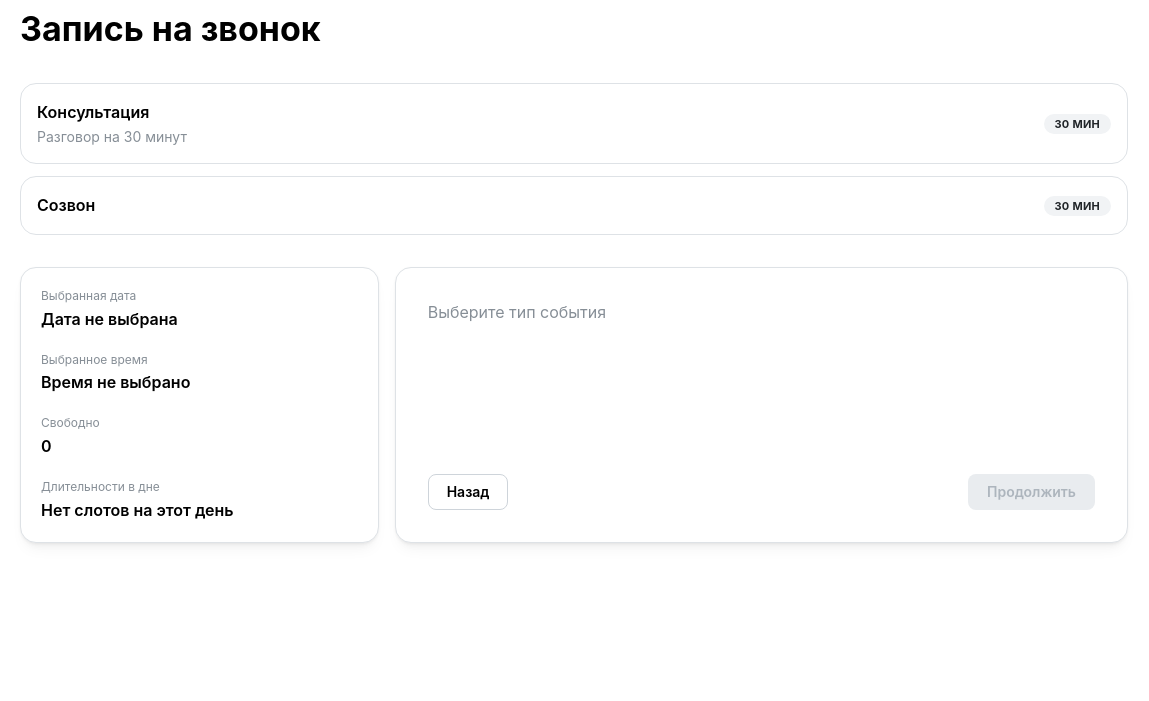
Test: BookingPage › смена типа сбрасывает слот, сохраняет дату и пересчитывает счётчики
The width and height of the screenshot is (1149, 701).
Click the button "Консультация Разговор на 30 минут 30 мин" at coordinates (574, 124), box top-left (20, 83), bottom-right (1128, 164)
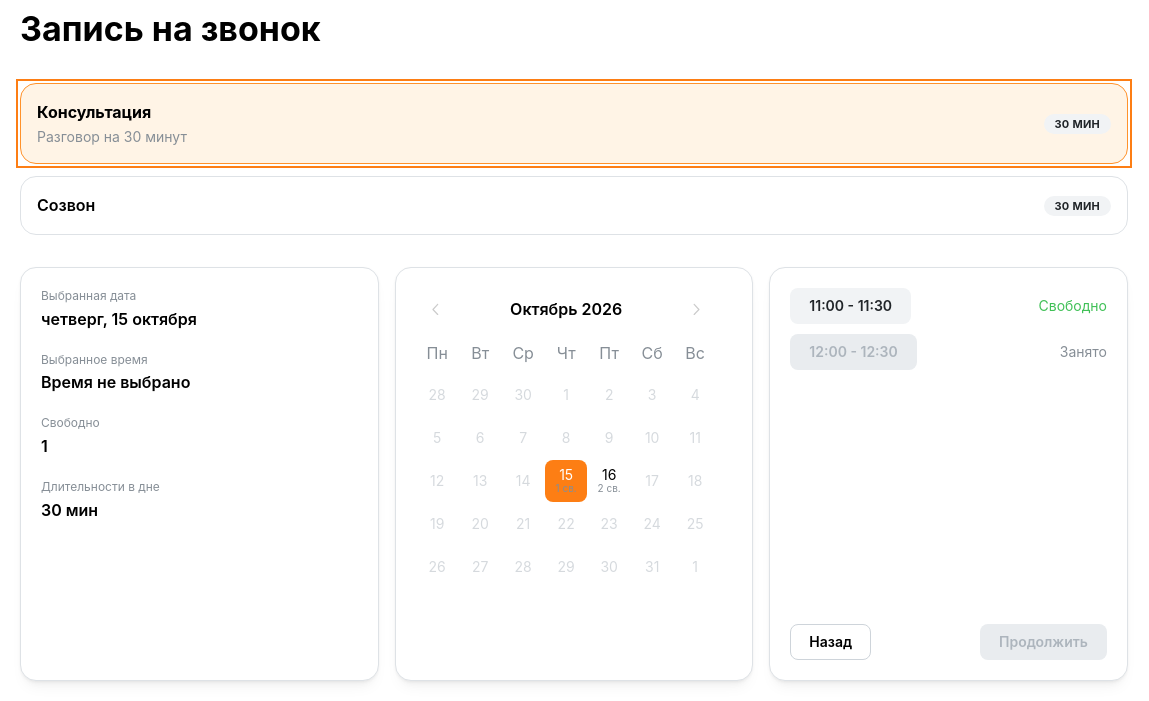
Click the button "11:00 - 11:30" at coordinates (851, 306), box top-left (790, 288), bottom-right (911, 324)
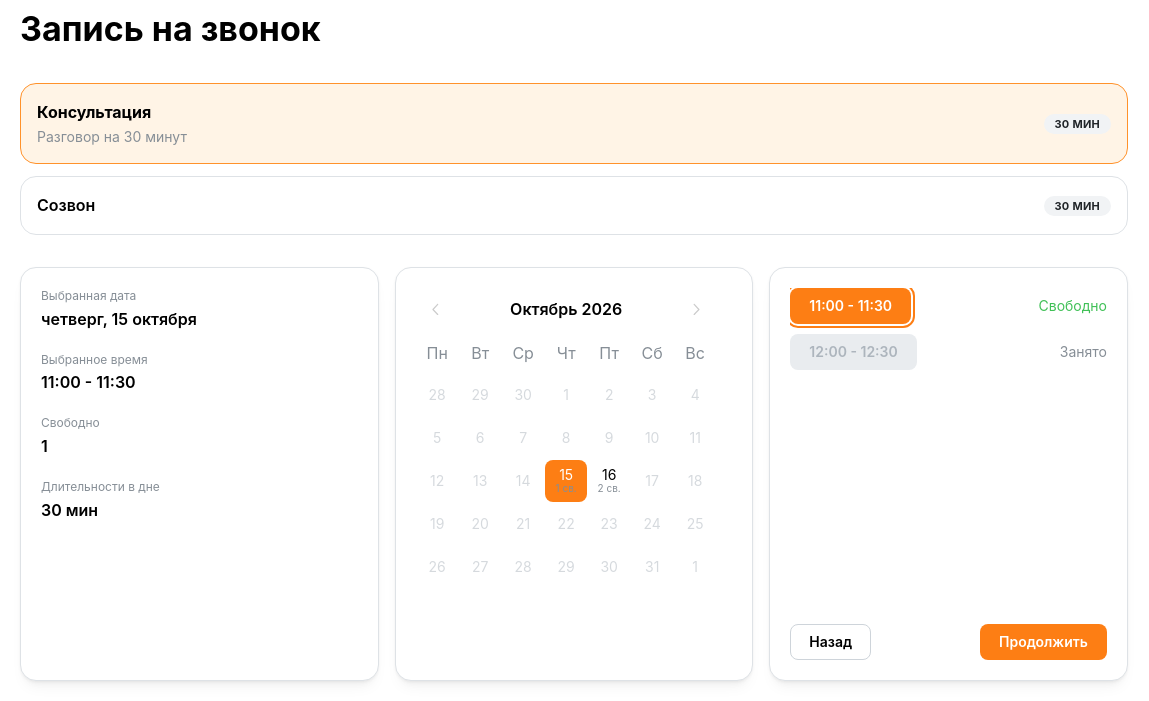
Now the button "Продолжить" is enabled, box top-left (980, 624), bottom-right (1107, 660)
Click the button "Созвон 30 мин" at coordinates (574, 206), box top-left (20, 176), bottom-right (1128, 235)
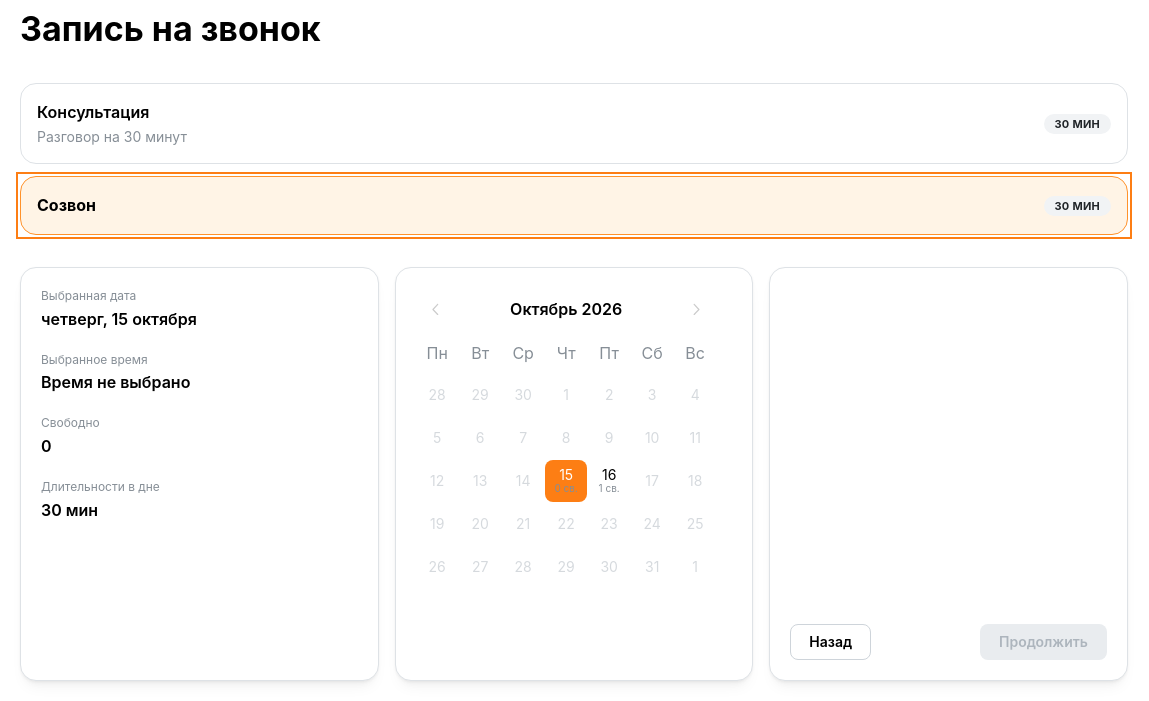
Now the text "четверг, 15 октября" is shown, box top-left (41, 309), bottom-right (197, 329)
Now the text "Время не выбрано" is shown, box top-left (41, 372), bottom-right (190, 392)
Now the text "0" is shown, box top-left (41, 436), bottom-right (52, 456)
